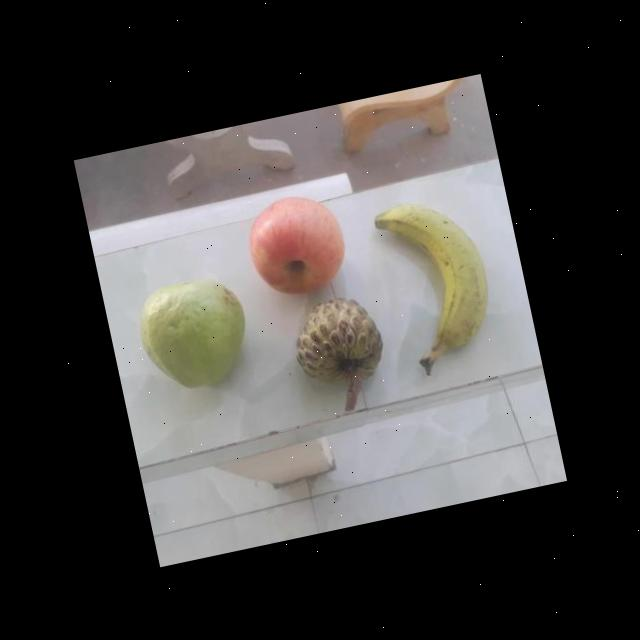Sakya fruit: (281, 290, 389, 404)
apple: (235, 184, 356, 301)
banana: (371, 193, 499, 365)
guava: (129, 274, 252, 394)
